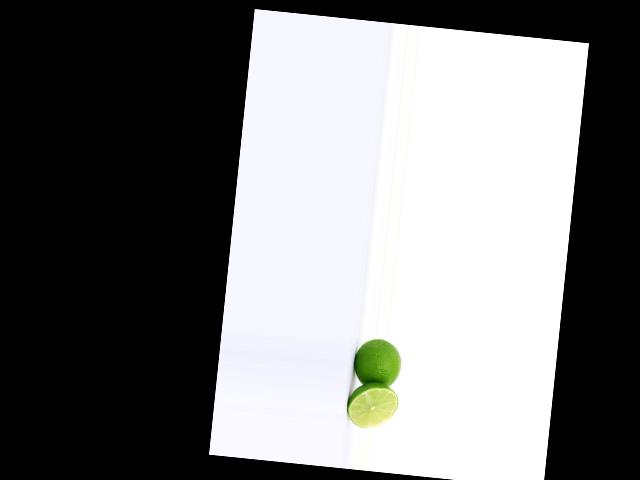lemon: (348, 334, 404, 389)
